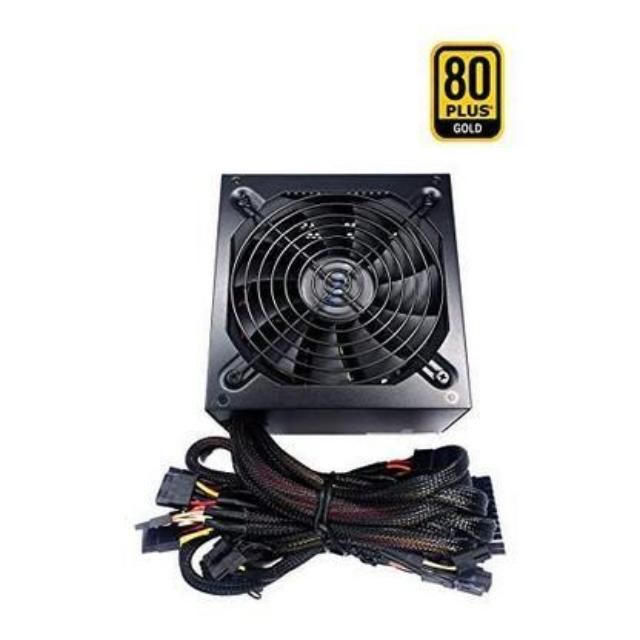PSU: (203, 164, 480, 446)
